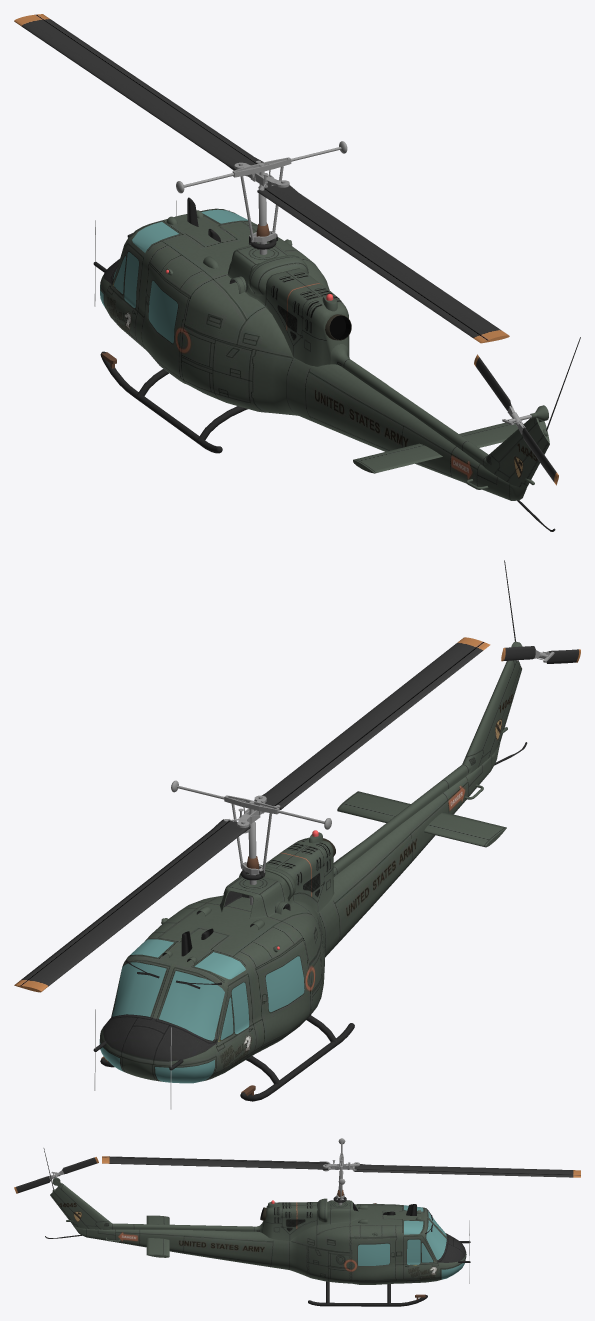
3 renders of one model, top to bottom at view 1: azimuth 30°, elevation 25°; view 2: azimuth 150°, elevation 25°; view 3: azimuth 270°, elevation 25°, orthographic. The views are drawn at different scales.
Visible parts, largest first — view 1: body|LineG05-FACES, rotor|Cylinder30-FACES, body|Line21-FACES, body|steklo-FACES, body|Line05-FACES, body|Cylinder01-FACES, body|Cylinder04-FACES, body|Cylinder02-FACES, rotor|Cylinder05-FACES, body|Line28-FACES, trotor|Cylinder11-FACES; view 2: body|LineG05-FACES, rotor|Cylinder30-FACES, body|steklo-FACES, body|Line21-FACES, body|Cylinder02-FACES, body|Line05-FACES, body|Cylinder01-FACES, body|Cylinder04-FACES, rotor|Cylinder05-FACES, trotor|Cylinder11-FACES; view 3: body|LineG05-FACES, rotor|Cylinder30-FACES, body|Line21-FACES, body|steklo-FACES, body|Cylinder01-FACES, body|Line05-FACES, body|Cylinder04-FACES, body|Cylinder02-FACES, trotor|Cylinder11-FACES, rotor|Cylinder05-FACES, body|Line28-FACES.
Boxes of the visible parts, left/top/right/bottom form: body|LineG05-FACES: left=100, top=208, right=526, bottom=500; rotor|Cylinder30-FACES: left=14, top=14, right=509, bottom=343; body|Line21-FACES: left=228, top=242, right=349, bottom=366; body|steklo-FACES: left=100, top=209, right=247, bottom=343; body|Line05-FACES: left=93, top=197, right=580, bottom=531; body|Cylinder01-FACES: left=483, top=418, right=549, bottom=488; body|Cylinder04-FACES: left=330, top=344, right=488, bottom=465; body|Cylinder02-FACES: left=353, top=422, right=518, bottom=473; rotor|Cylinder05-FACES: left=176, top=141, right=347, bottom=239; body|Line28-FACES: left=248, top=255, right=308, bottom=295; trotor|Cylinder11-FACES: left=474, top=354, right=558, bottom=485; body|LineG05-FACES: left=100, top=743, right=500, bottom=1081; rotor|Cylinder30-FACES: left=14, top=637, right=490, bottom=992; body|steklo-FACES: left=99, top=939, right=304, bottom=1083; body|Line21-FACES: left=220, top=837, right=334, bottom=918; body|Cylinder02-FACES: left=337, top=791, right=506, bottom=847; body|Line05-FACES: left=93, top=560, right=527, bottom=1101; body|Cylinder01-FACES: left=462, top=660, right=521, bottom=774; body|Cylinder04-FACES: left=333, top=764, right=471, bottom=876; rotor|Cylinder05-FACES: left=171, top=780, right=331, bottom=870; trotor|Cylinder11-FACES: left=501, top=646, right=580, bottom=663; body|LineG05-FACES: left=73, top=1204, right=466, bottom=1284; rotor|Cylinder30-FACES: left=102, top=1156, right=580, bottom=1177; body|Line21-FACES: left=263, top=1200, right=358, bottom=1240; body|steklo-FACES: left=358, top=1205, right=464, bottom=1279; body|Cylinder01-FACES: left=50, top=1183, right=112, bottom=1229; body|Line05-FACES: left=43, top=1148, right=470, bottom=1306; body|Cylinder04-FACES: left=108, top=1222, right=262, bottom=1233; body|Cylinder02-FACES: left=146, top=1215, right=169, bottom=1257; trotor|Cylinder11-FACES: left=14, top=1157, right=98, bottom=1193; rotor|Cylinder05-FACES: left=323, top=1138, right=359, bottom=1198; body|Line28-FACES: left=317, top=1198, right=327, bottom=1222.
Size of the model in its own units: 3 by 4.92 by 17.28.
Materials: 32 (21 with a texture image).
